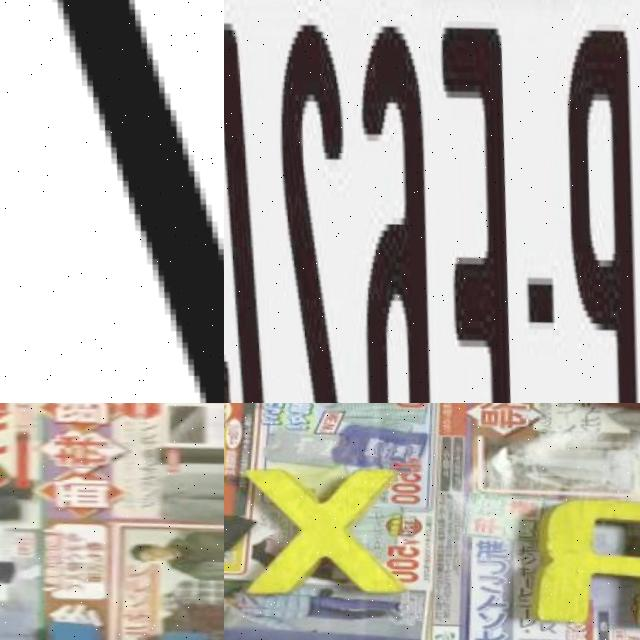2: (262, 0, 386, 403)
4: (224, 0, 294, 403)
6: (337, 18, 458, 403)
E: (411, 17, 540, 403)
N: (6, 0, 224, 403)
P: (536, 18, 640, 403)
R: (523, 476, 640, 627)
V: (44, 608, 210, 640)
X: (245, 455, 409, 603)
